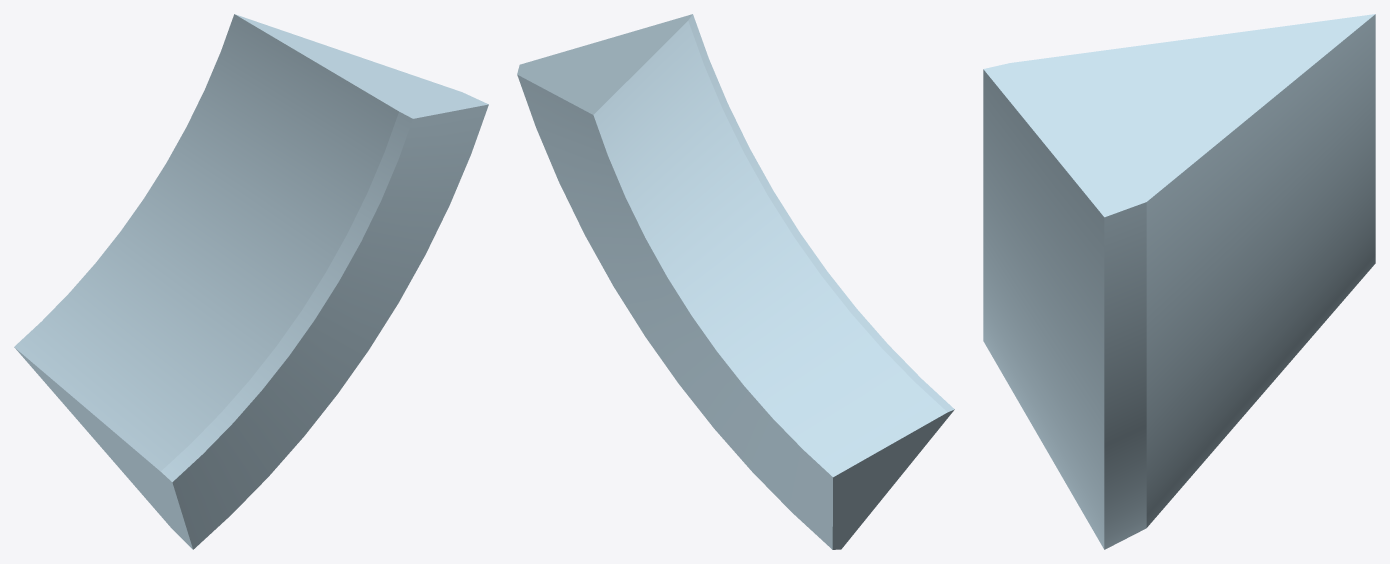
File: Sub_1_Cell_1_3.gltf
3 views of the same model, side by side, from view 1: azimuth 30°, elevation 25°; view 2: azimuth 150°, elevation 25°; view 3: azimuth 270°, elevation 25° (orthographic). The views are drawn at different scales.
Visible parts, largest first — view 1: Sub_1_Cell_1_3; view 2: Sub_1_Cell_1_3; view 3: Sub_1_Cell_1_3.
Boxes of the visible parts, x1,y1,x2,y2 form: Sub_1_Cell_1_3: (14, 14, 488, 549); Sub_1_Cell_1_3: (517, 14, 954, 549); Sub_1_Cell_1_3: (983, 14, 1375, 549).
Bounding box in the file's own units: 0.0965 × 0.1051 × 0.0592.
